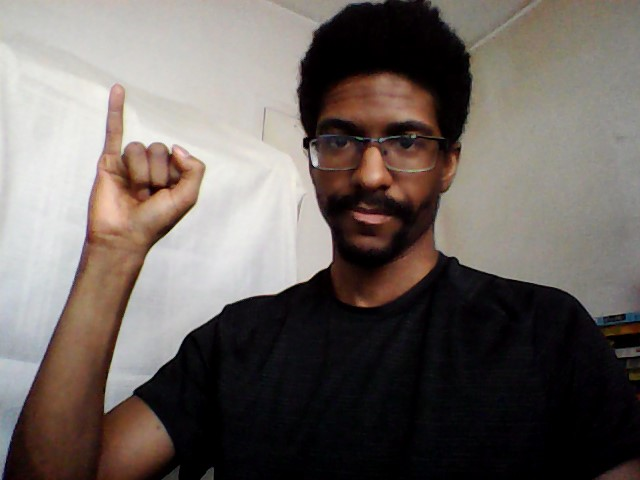i: (84, 79, 210, 252)
